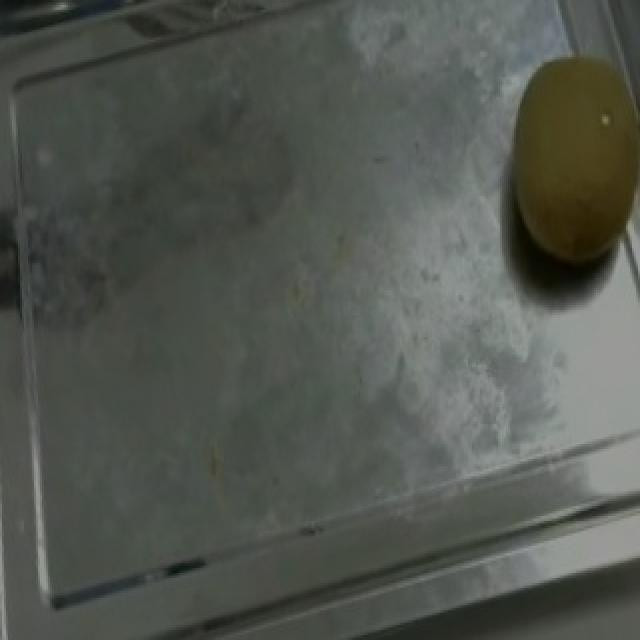Fruit: (474, 30, 640, 305), (0, 35, 60, 270)
